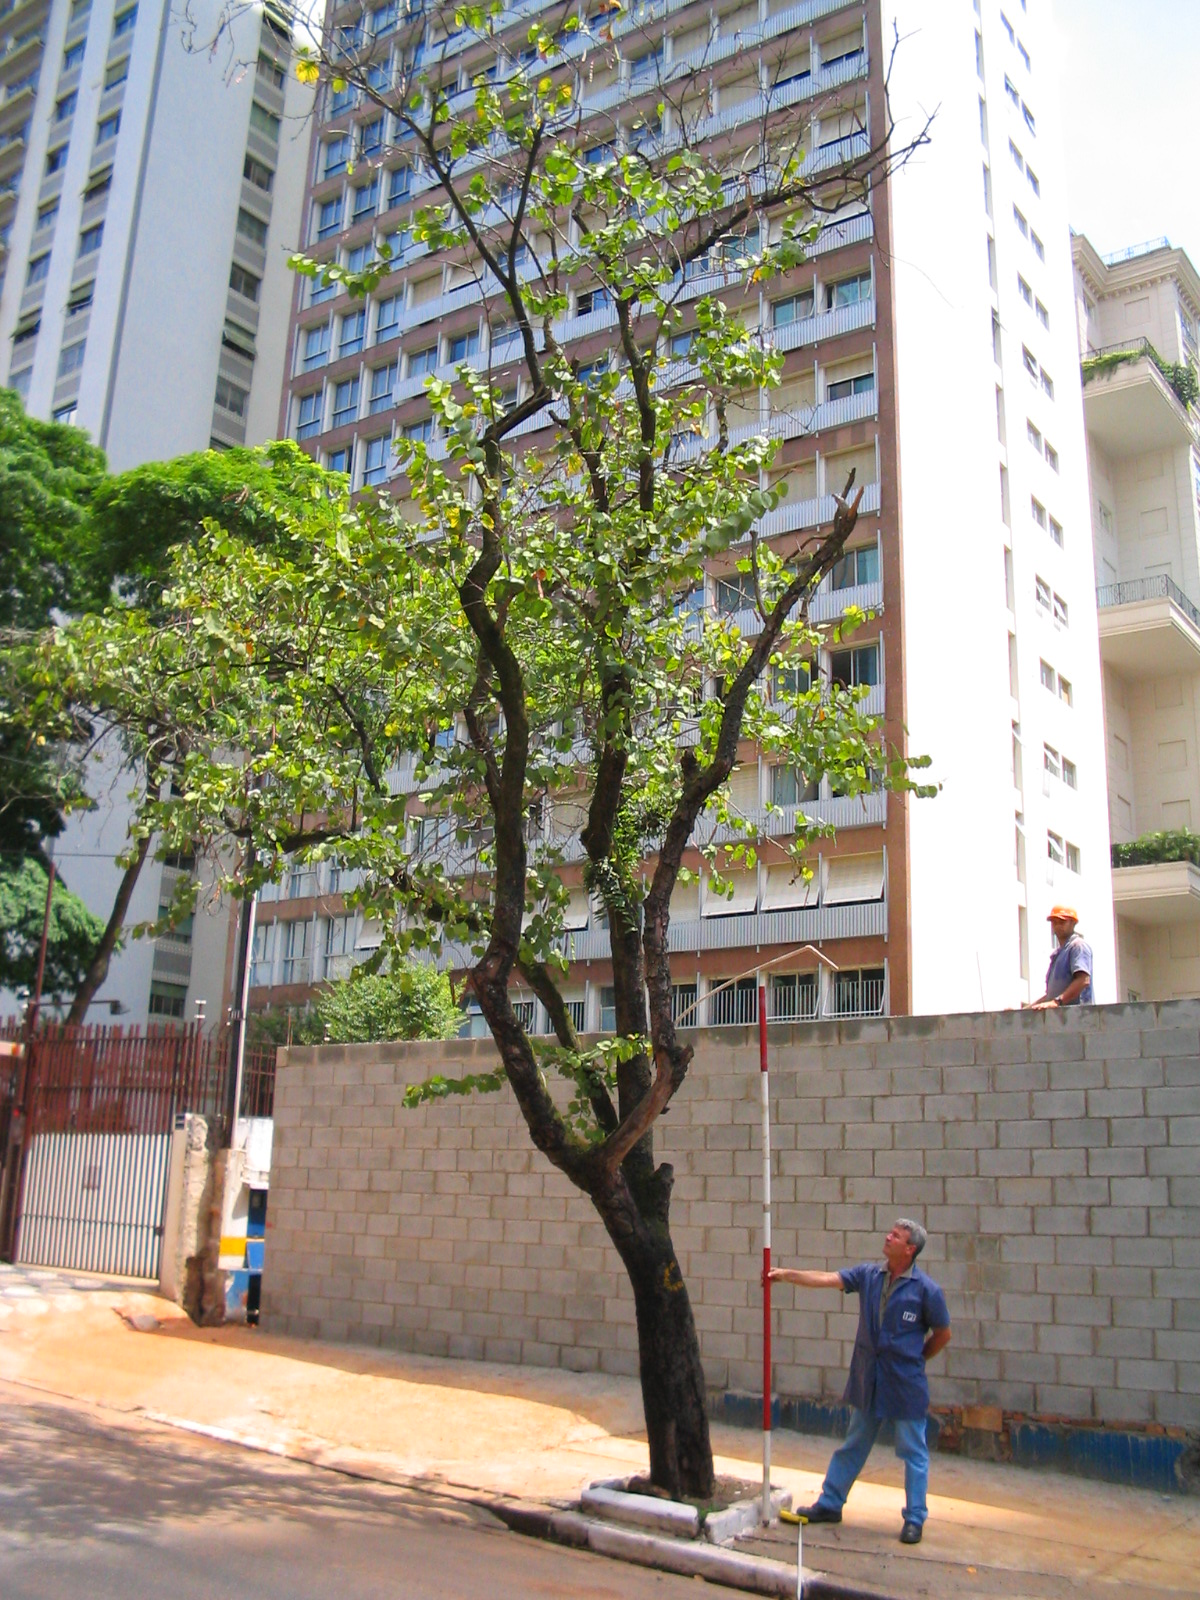crown: (10, 11, 942, 1116)
stem: (567, 1189, 745, 1497)
stick: (742, 983, 788, 1526)
tree: (6, 8, 945, 1495)
